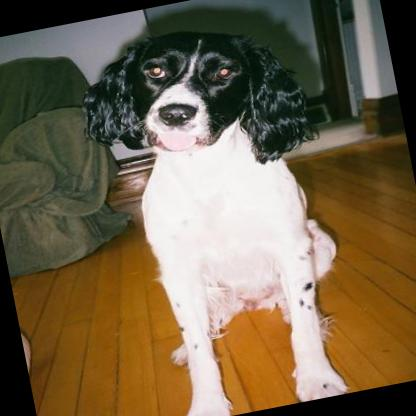English_springer: (64, 4, 366, 416)
